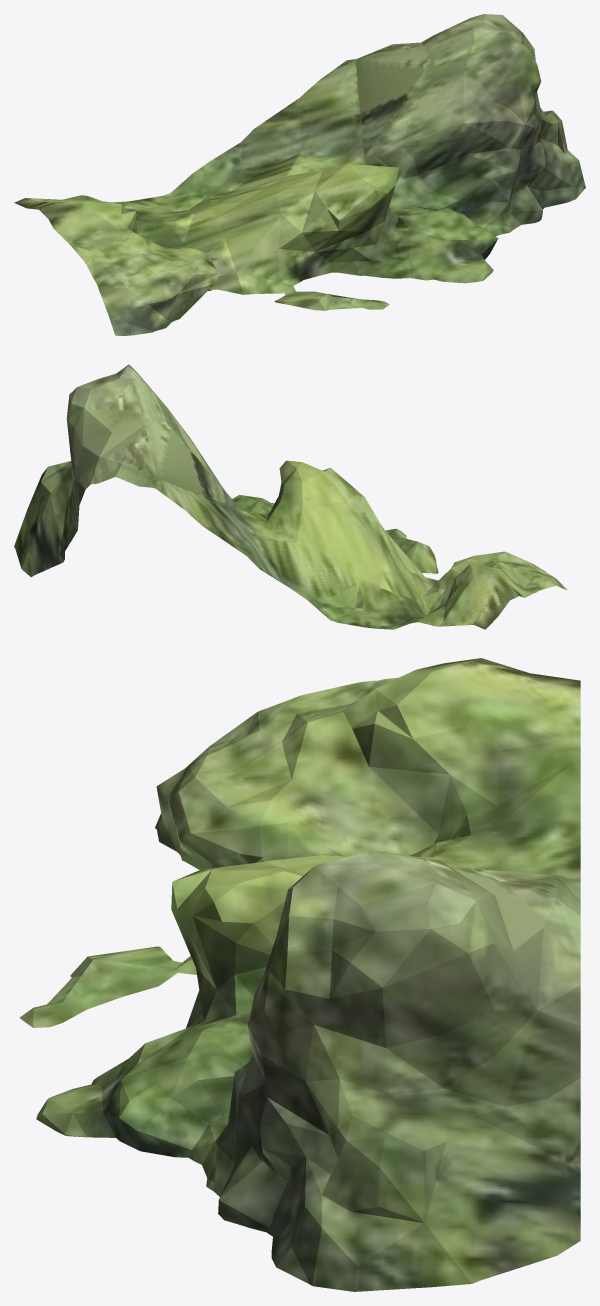
3 views of the same model, one above another, from view 1: azimuth 30°, elevation 25°; view 2: azimuth 150°, elevation 25°; view 3: azimuth 270°, elevation 25° (orthographic). The views are drawn at different scales.
Size of the model in its own units: 20.43 by 6.63 by 9.8.
1 material, 1 textured.
